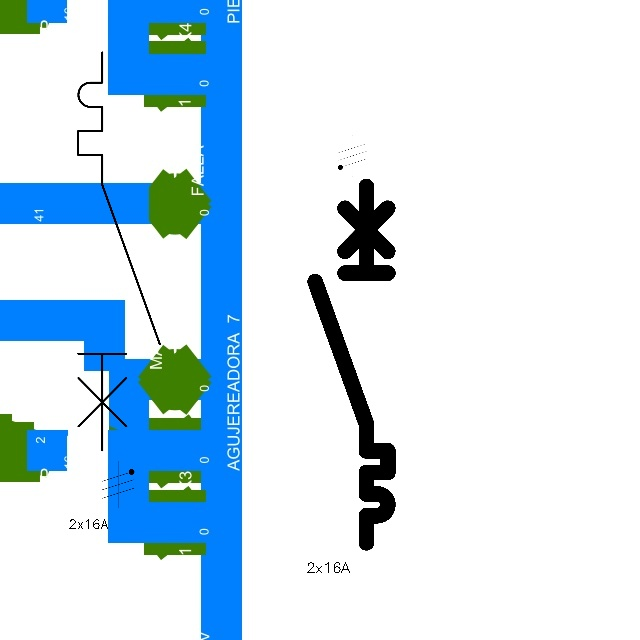interruptor_termomagnetico: (68, 42, 170, 461), (306, 177, 397, 551)
